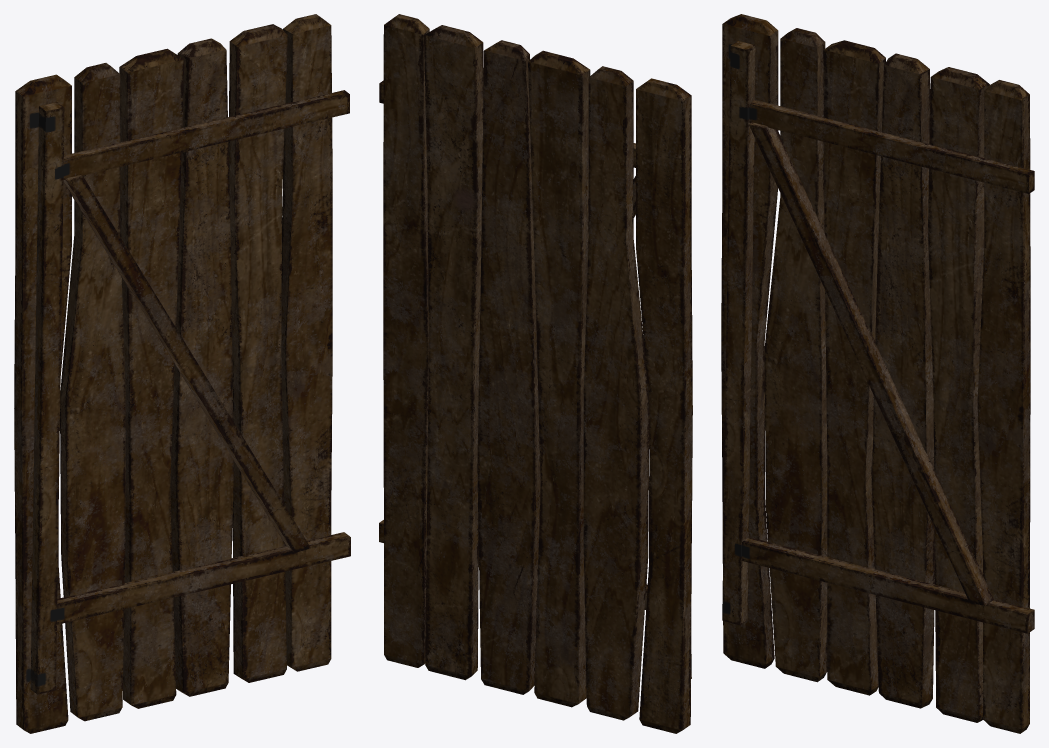
File: puerta_madera.glb
3 renders of one model, left to right at view 1: azimuth 30°, elevation 25°; view 2: azimuth 150°, elevation 25°; view 3: azimuth 330°, elevation 25°, orthographic.
Parts seen in each view (by area): view 1: Object_2; view 2: Object_2; view 3: Object_2.
Boxes of the visible parts, x1,y1,x2,y2 form: Object_2: (14,14,350,733); Object_2: (379,14,692,733); Object_2: (721,14,1034,733).
Bounding box in the file's own units: 1.22 × 2.38 × 0.1306.
1 material, 1 textured.
